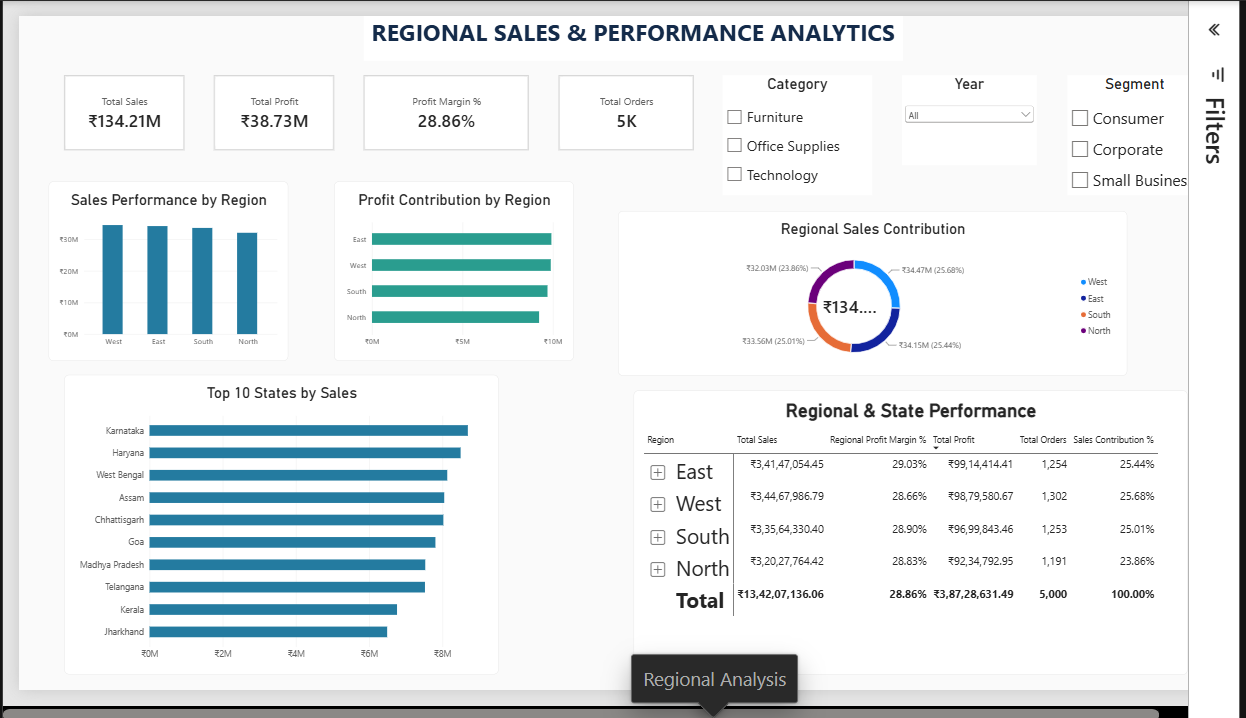

This screenshot's page, from the dashboard's own definition file:
{"tool":"powerbi","page":{"name":"Regional Analysis","canvas":[1920,1080],"ordinal":2},"visuals":[{"type":"textbox","box":[552,0,864,72],"z":0},{"type":"clusteredColumnChart","title":"Sales Performance by Region","fields":{"Category":["DimCustomers.Region"],"Y":["Measures (2).Total Sales"]},"box":[48,264,384,288],"z":1000},{"type":"clusteredBarChart","title":"Profit Contribution by Region","fields":{"Category":["DimCustomers.Region"],"Y":["Measures (2).Total Profit"]},"box":[504,264,384,288],"z":2000},{"type":"clusteredBarChart","title":"Top 10 States by Sales","fields":{"Category":["DimCustomers.State"],"Y":["Measures (2).Total Sales"]},"box":[72,576,696,480],"z":3000},{"type":"pivotTable","title":"Regional & State Performance","fields":{"Rows":["DimCustomers.Region","DimCustomers.State"],"Values":["Measures (2).Total Sales","Measures (2).Regional Profit Margin %","Measures (2).Total Profit","Measures (2).Total Orders","Measures (2).Sales Contribution %"]},"box":[984,600,888,456],"z":4000},{"type":"donutChart","title":"Regional Sales Contribution","fields":{"Category":["DimCustomers.Region"],"Y":["Measures (2).Total Sales"]},"box":[960,312,816,264],"z":5000},{"type":"slicer","title":"Year","fields":{"Values":["DimDate.Year"]},"box":[1416,96,216,144],"z":6000},{"type":"slicer","title":"Category","fields":{"Values":["DimProducts.Category"]},"box":[1128,96,240,192],"z":7000},{"type":"slicer","title":"Segment","fields":{"Values":["DimCustomers.Segment"]},"box":[1680,96,216,192],"z":8000},{"type":"cardVisual","fields":{"Data":["Measures (2).Total Sales"]},"box":[72,96,192,120],"z":9000},{"type":"cardVisual","fields":{"Data":["Measures (2).Total Profit"]},"box":[312,96,192,120],"z":10000},{"type":"cardVisual","fields":{"Data":["Measures (2).Profit Margin %"]},"box":[552,96,264,120],"z":11000},{"type":"cardVisual","fields":{"Data":["Measures (2).Total Orders"]},"box":[864,96,216,120],"z":12000}]}

Visuals, with their boxes on the page's 1920x1080 design canvas (x1, y1, x2, y2). These are canvas units, not pixel positions in the 1246x718 screenshot, which may show the page scaled, cropped or inside an application window:
textbox: bbox=(552, 0, 1416, 72)
"Sales Performance by Region" clusteredColumnChart: bbox=(48, 264, 432, 552)
"Profit Contribution by Region" clusteredBarChart: bbox=(504, 264, 888, 552)
"Top 10 States by Sales" clusteredBarChart: bbox=(72, 576, 768, 1056)
"Regional & State Performance" pivotTable: bbox=(984, 600, 1872, 1056)
"Regional Sales Contribution" donutChart: bbox=(960, 312, 1776, 576)
"Year" slicer: bbox=(1416, 96, 1632, 240)
"Category" slicer: bbox=(1128, 96, 1368, 288)
"Segment" slicer: bbox=(1680, 96, 1896, 288)
cardVisual - Measures (2).Total Sales: bbox=(72, 96, 264, 216)
cardVisual - Measures (2).Total Profit: bbox=(312, 96, 504, 216)
cardVisual - Measures (2).Profit Margin %: bbox=(552, 96, 816, 216)
cardVisual - Measures (2).Total Orders: bbox=(864, 96, 1080, 216)
